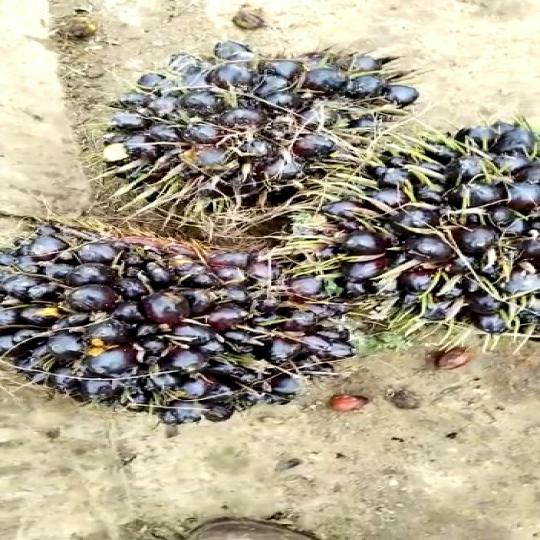mentah: (0, 230, 402, 422), (87, 31, 440, 236), (298, 94, 540, 344)
